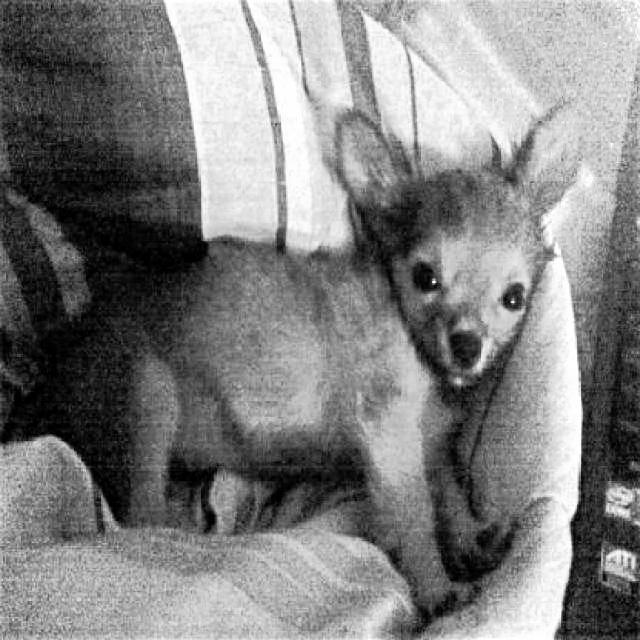Dog: (0, 93, 583, 622)
